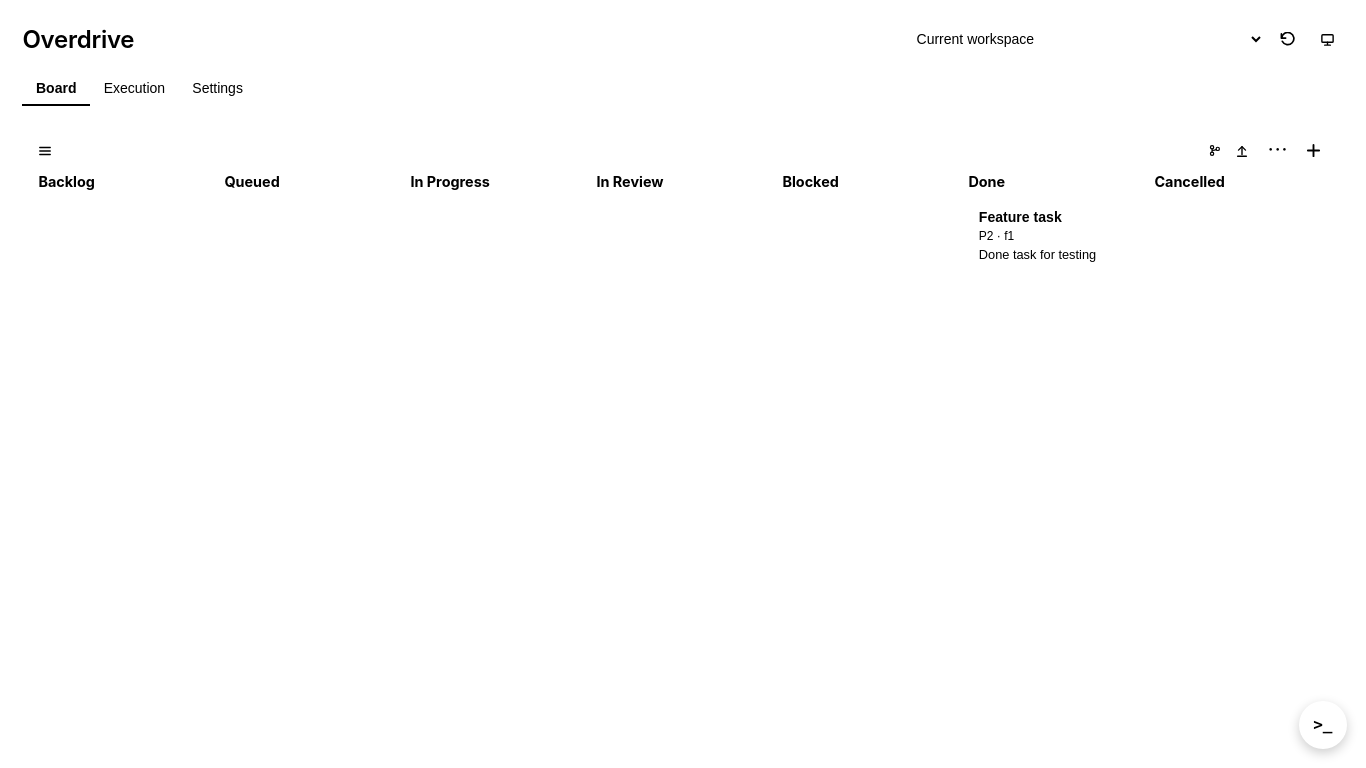
Test: Generate Follow-Up Tasks › does not show Generate Follow-Up Tasks button for done feature task
Click the text "Feature task" at [1020, 217], box [979,209,1062,225]
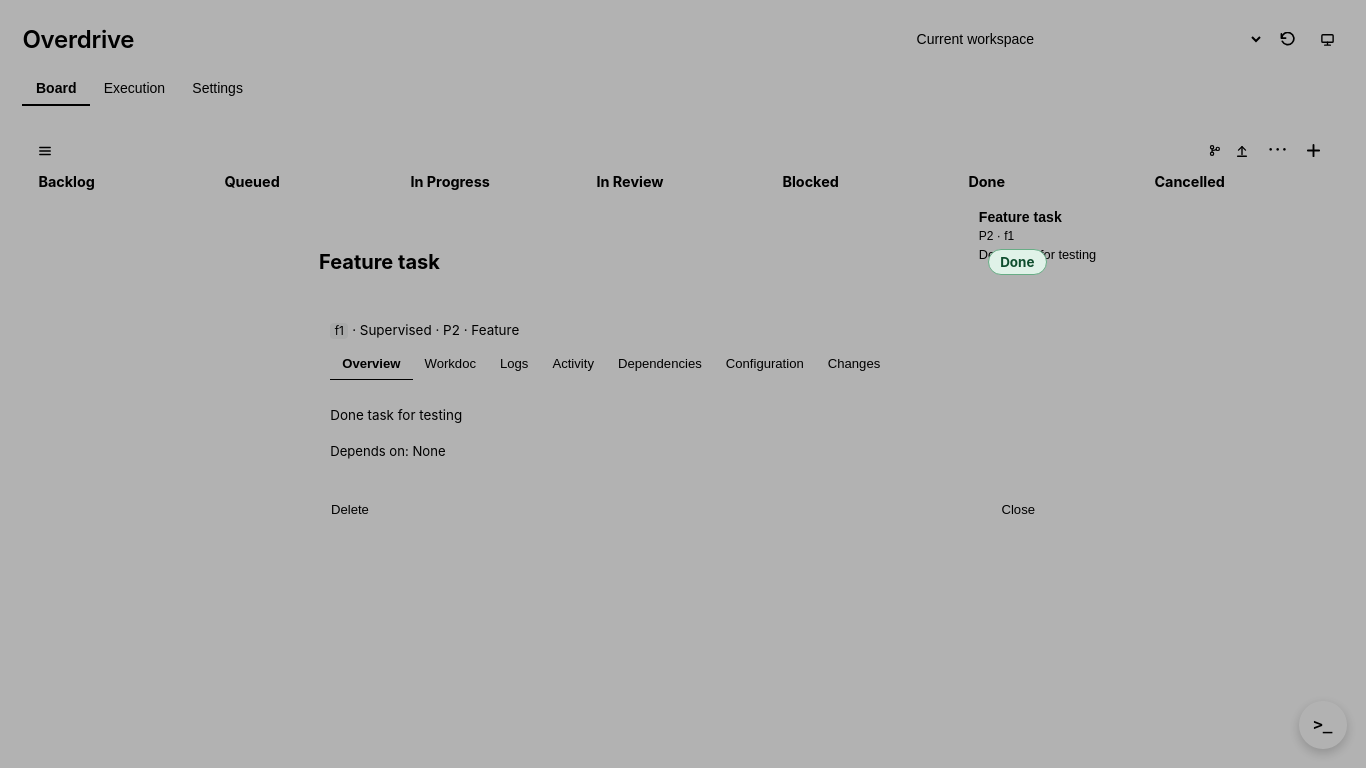
expect the button "Delete" is shown: met, box [319,496,381,525]
